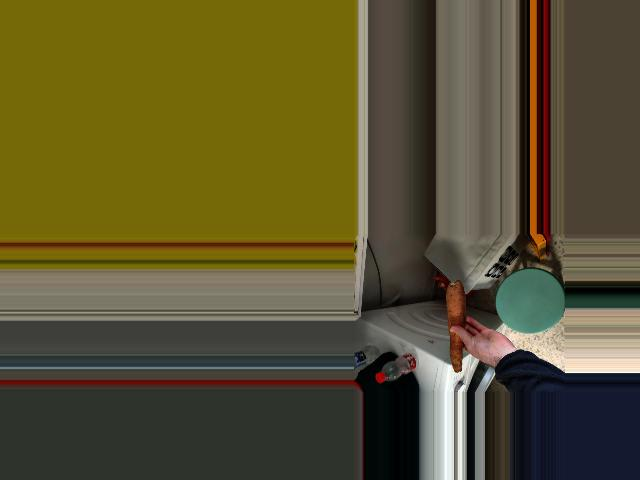sweet_potato: (444, 283, 473, 373)
